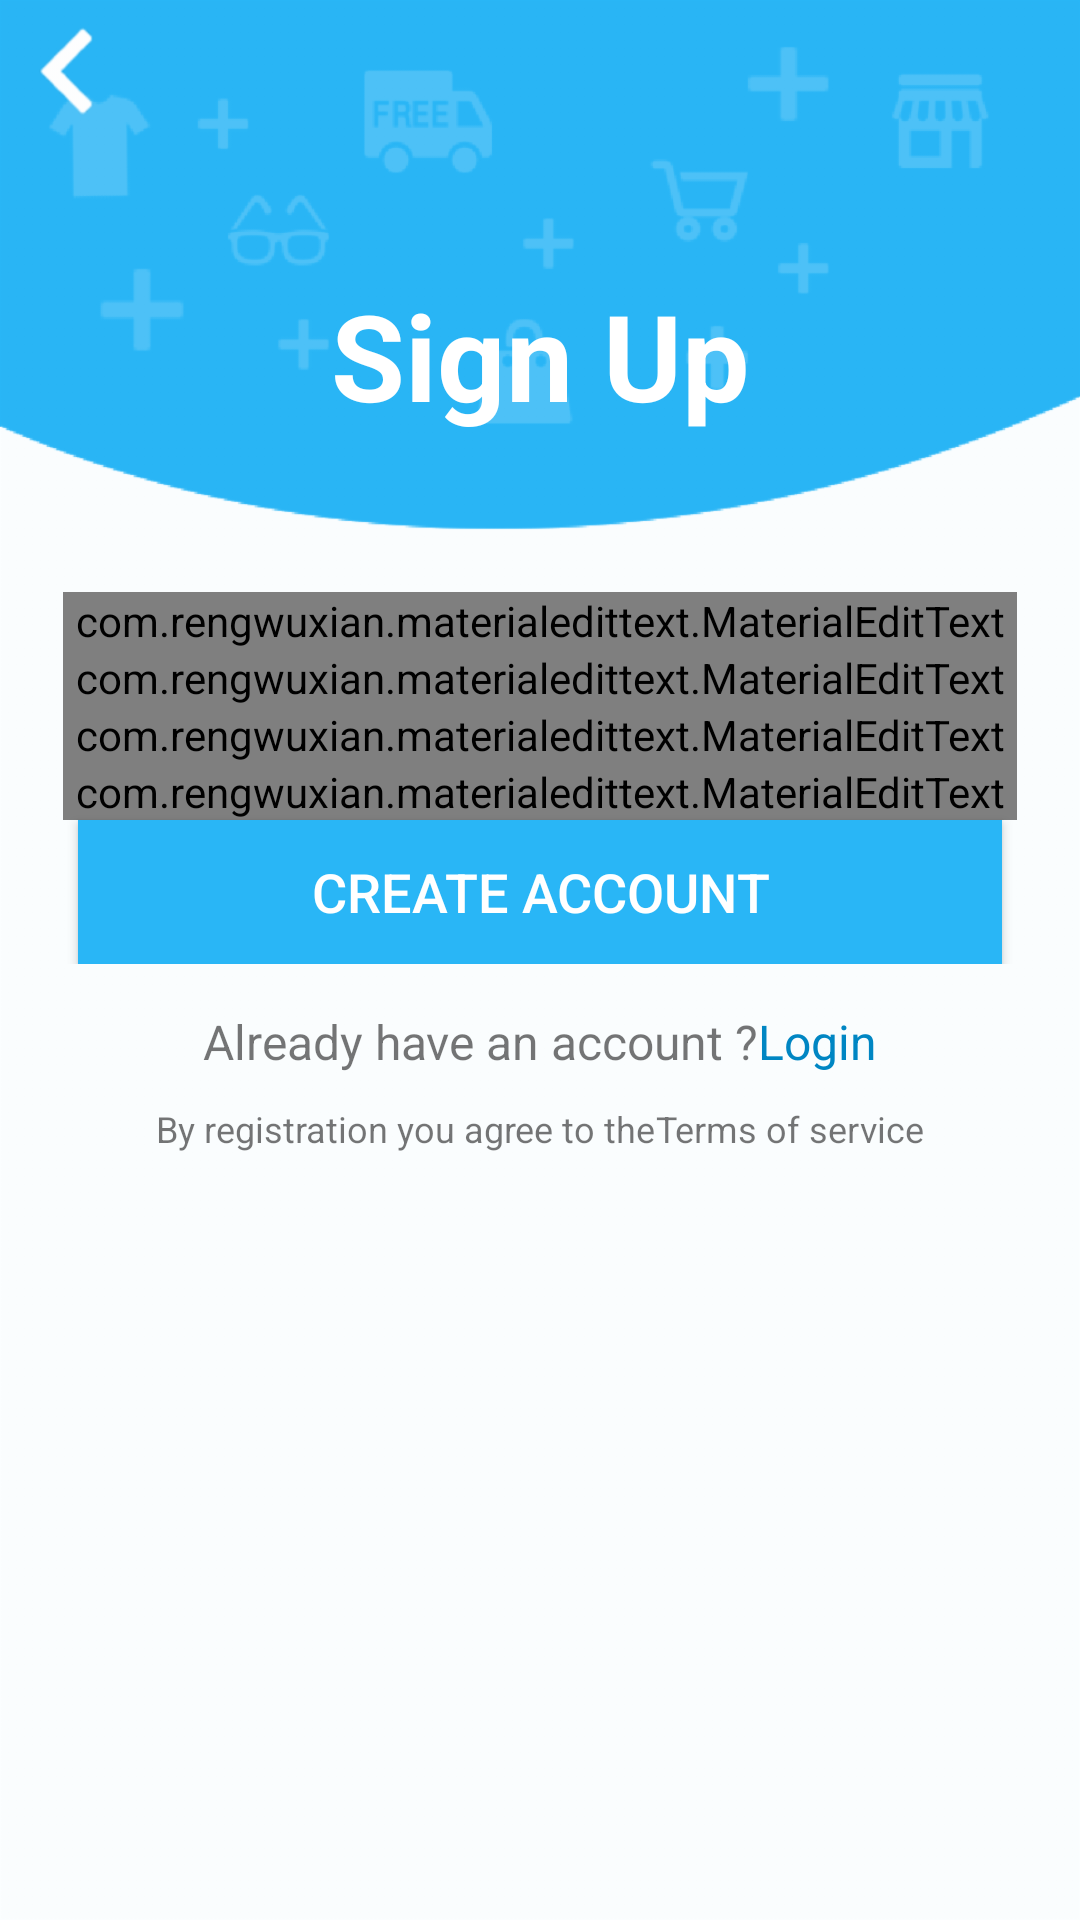

Icons on this 1080px×1920px Android screen, each with its box as (x1, y1, x2, y2):
back: (40, 28, 114, 118)
